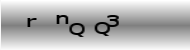3: (106, 14, 119, 27)
Q: (92, 21, 111, 37), (68, 22, 85, 38)
n: (54, 13, 69, 25)
r: (26, 17, 38, 28)
